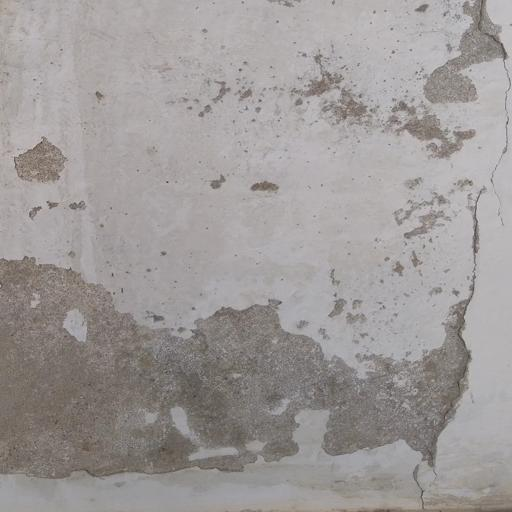peeling: (11, 108, 512, 511)
